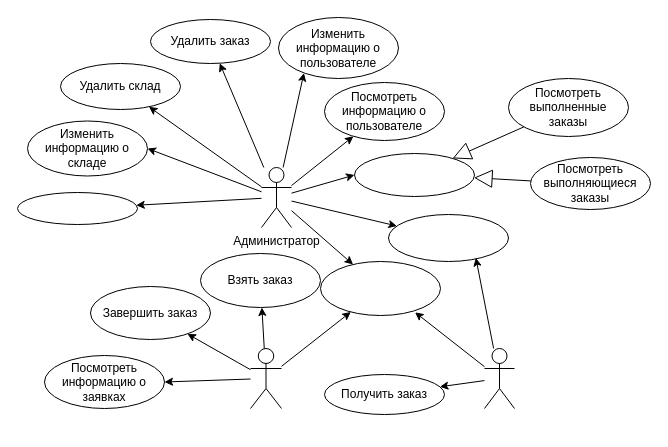
The diagram is 668 pixels wide and 447 high, and some of its shapes have lost their labels. The centre of each missing label's shape, as x and y in pixels:
Курьер: [266,378]
Пользователь: [499,378]
Посмотреть информацию о заказе: [380,288]
Посмотреть статистику: [414,174]
Создать заказ: [448,238]
Создать склад: [77,208]
